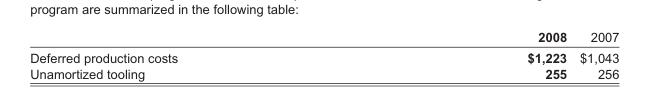table: (29, 29, 618, 80)
table column: (29, 29, 351, 80), (351, 29, 572, 80), (572, 29, 618, 80)
table column header: (29, 29, 618, 47)
table row: (29, 29, 618, 47), (29, 47, 618, 65), (29, 65, 618, 80)
